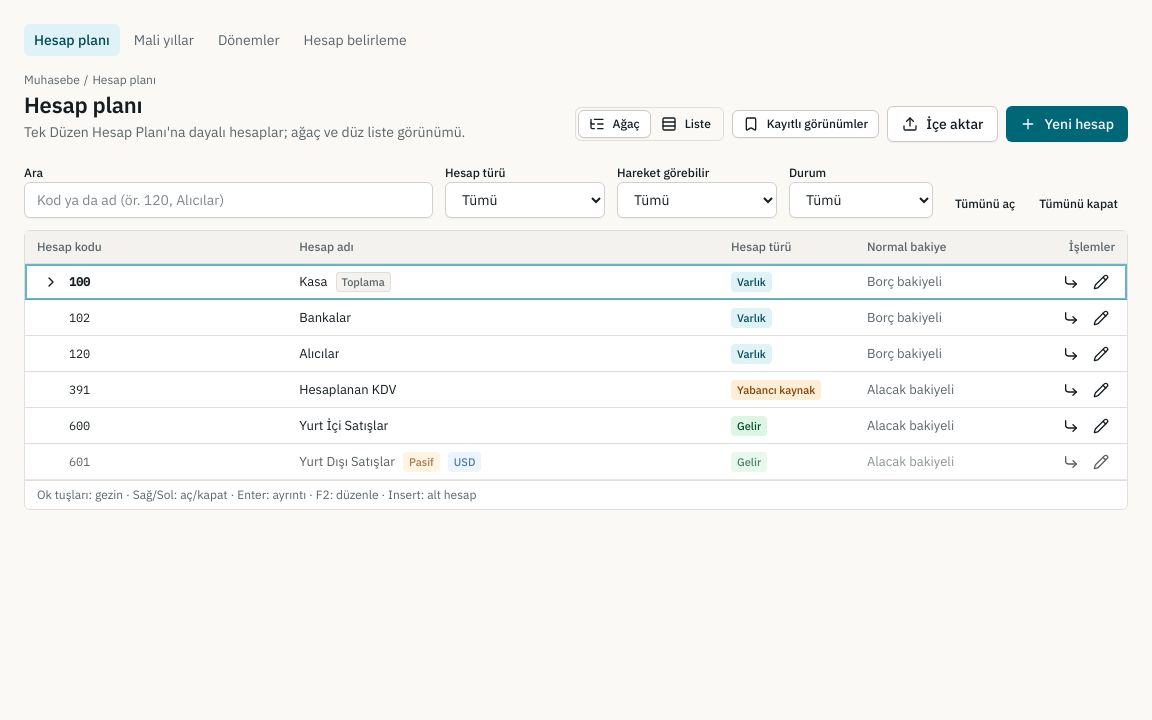
it: ChartOfAccountsPage › creates a sub-account with a payload-bound Idempotency-Key and shows integrity messages
The width and height of the screenshot is (1152, 720).
Click the button named "120 altına hesap ekle" at (1071, 354), box [1057,340,1085,368]
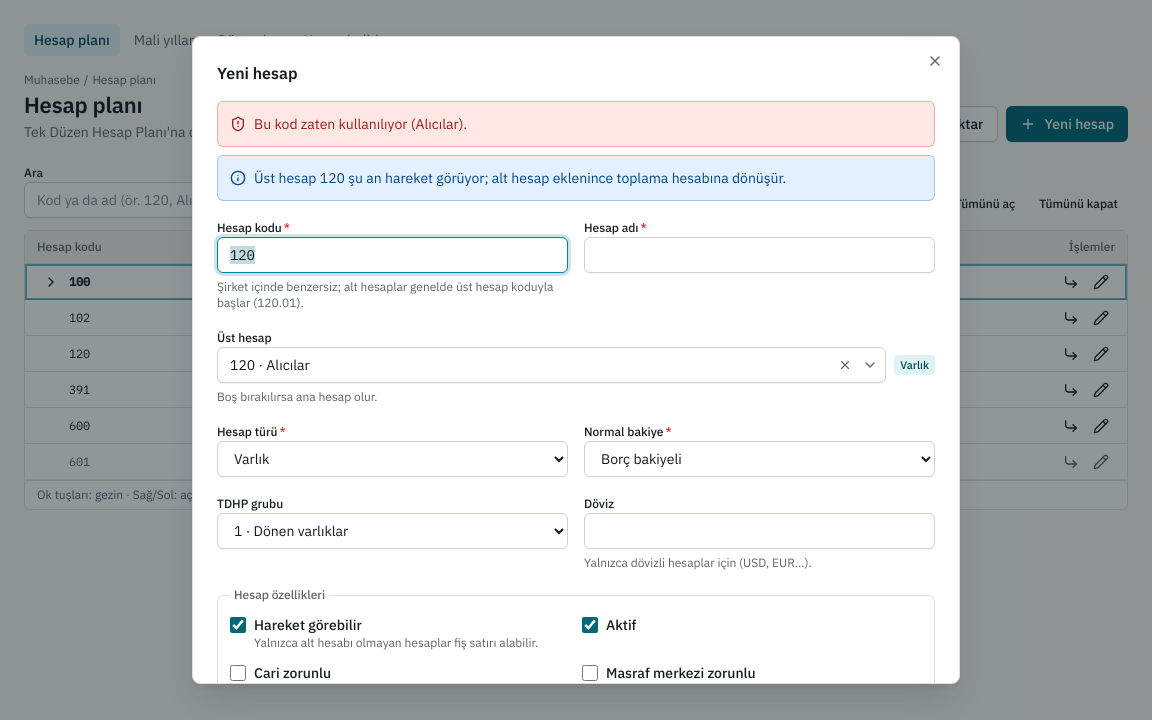
expect the list item "120 şu an hareket görüyor" is shown: met, box [254,169,786,187]
expect the field labelled "Hesap kodu*" holds "120": met, box [217,237,568,273]
# Client-side uniqueness check before the request.
Type "Yurt içi alıcılar" into the field labelled "Hesap adı*" at (760, 255), box [584,237,935,273]
(page scrolled)
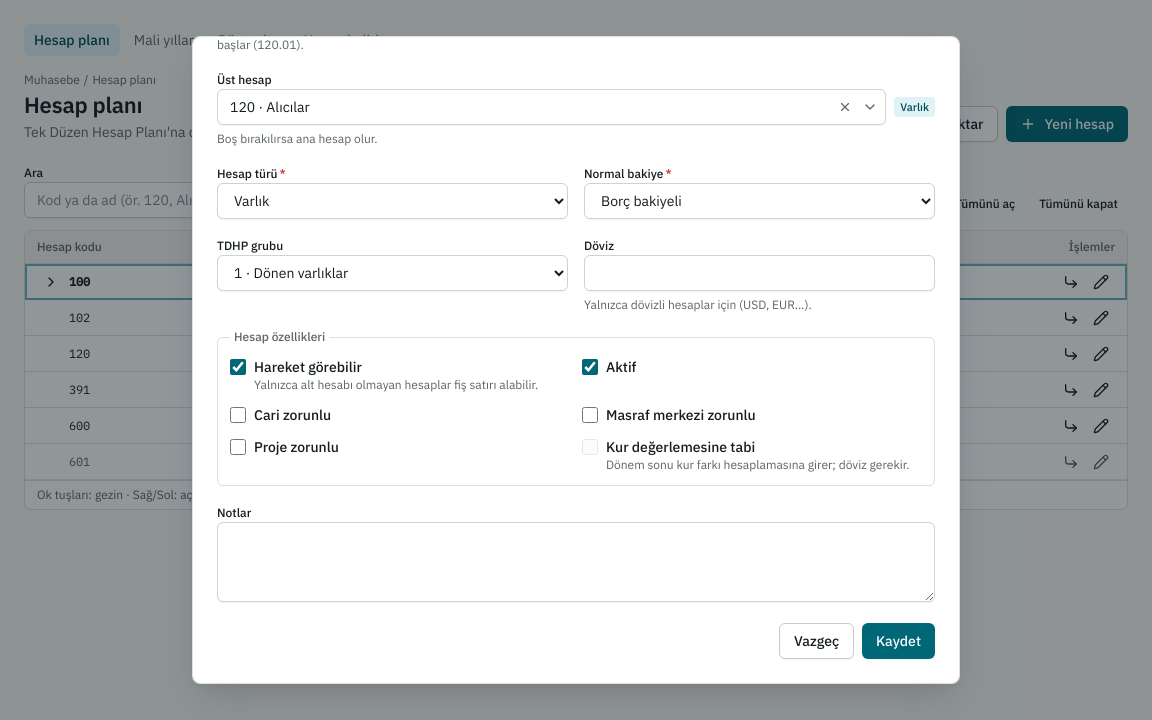
Click the button "Kaydet" at (899, 641), box [862,623,935,659]
(page scrolled)
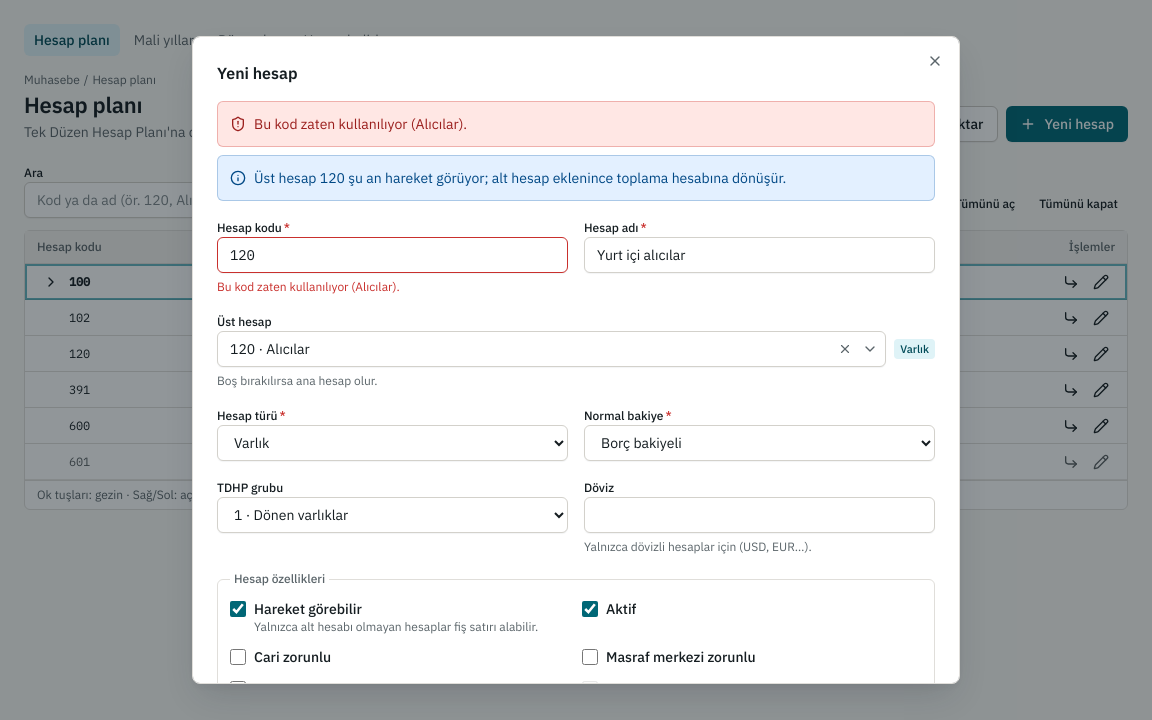
Clear the field labelled "Hesap kodu*" at (392, 255), box [217,237,568,273]
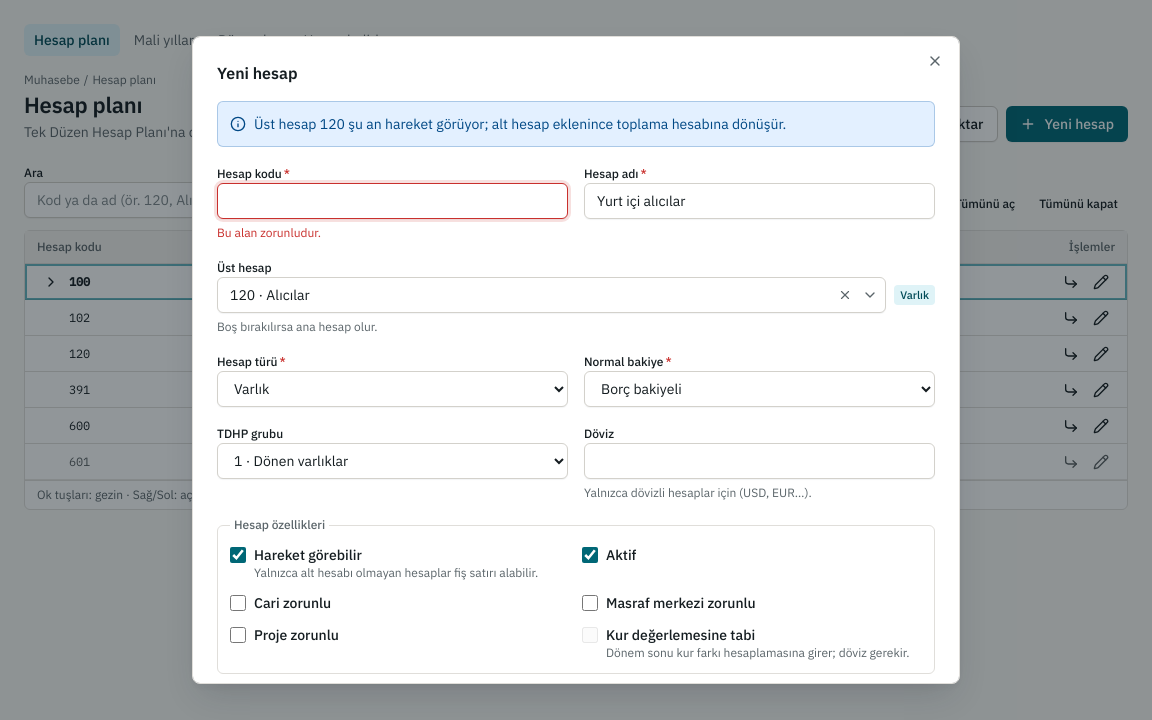
Type "120.01" into the field labelled "Hesap kodu*" at (392, 201), box [217,183,568,219]
(page scrolled)
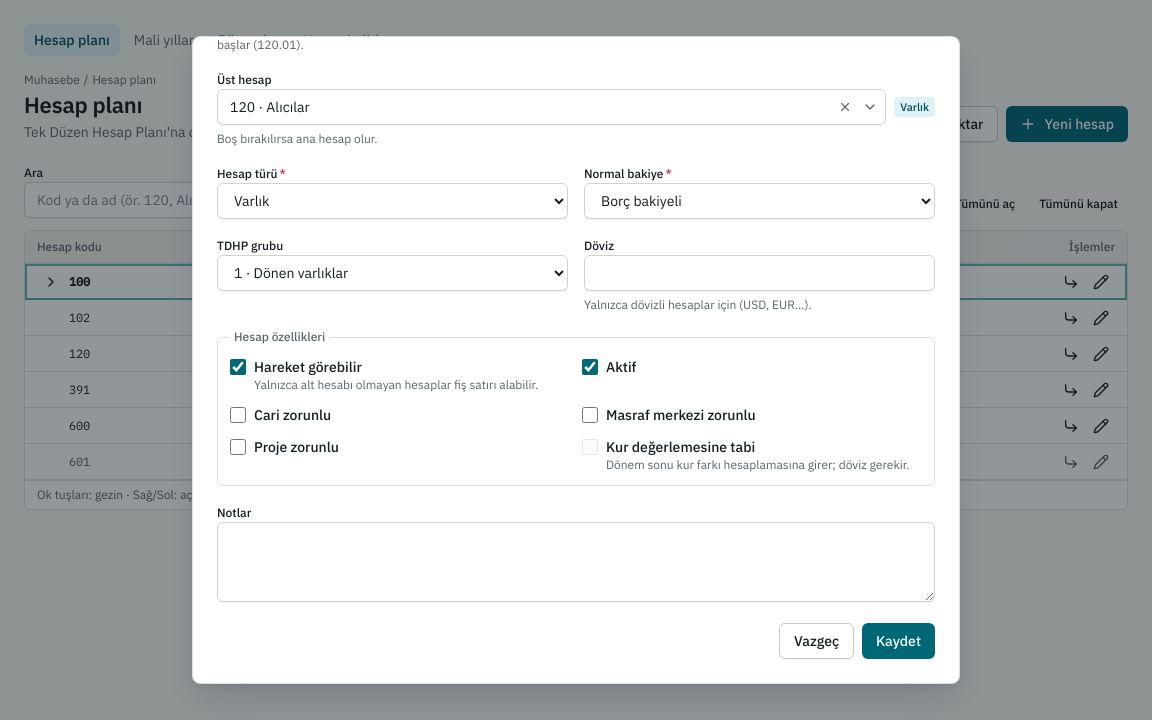
Click the button "Kaydet" at (899, 641), box [862,623,935,659]
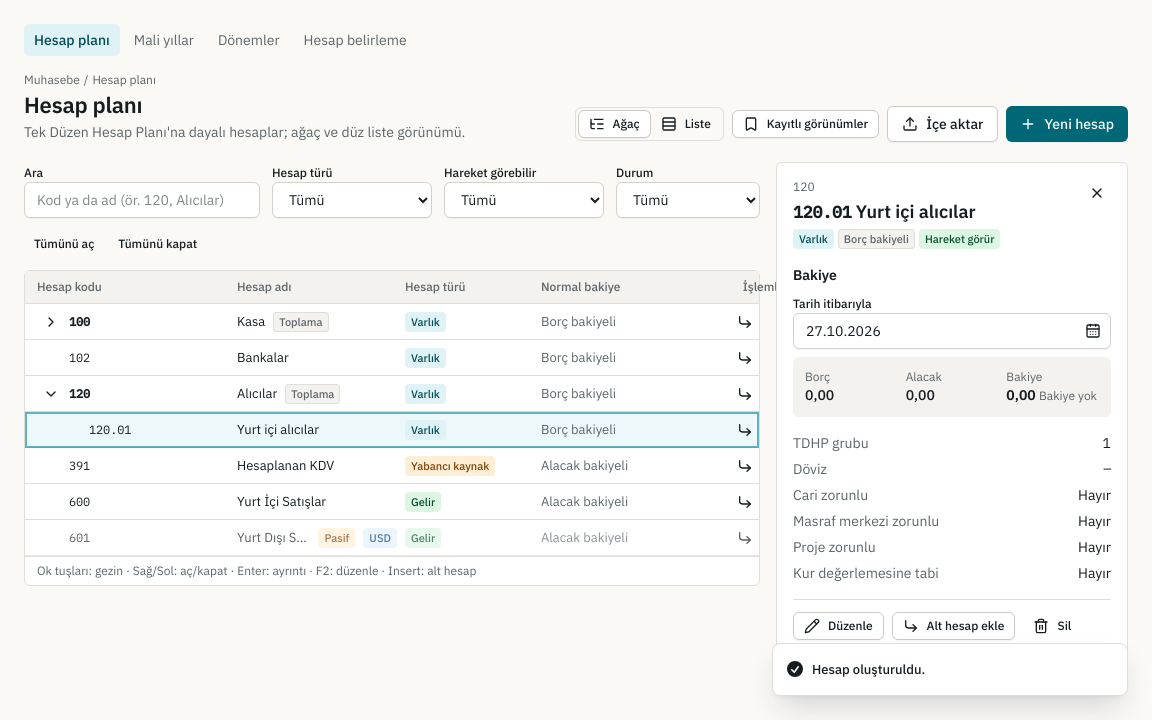
expect the dialog is gone: met
